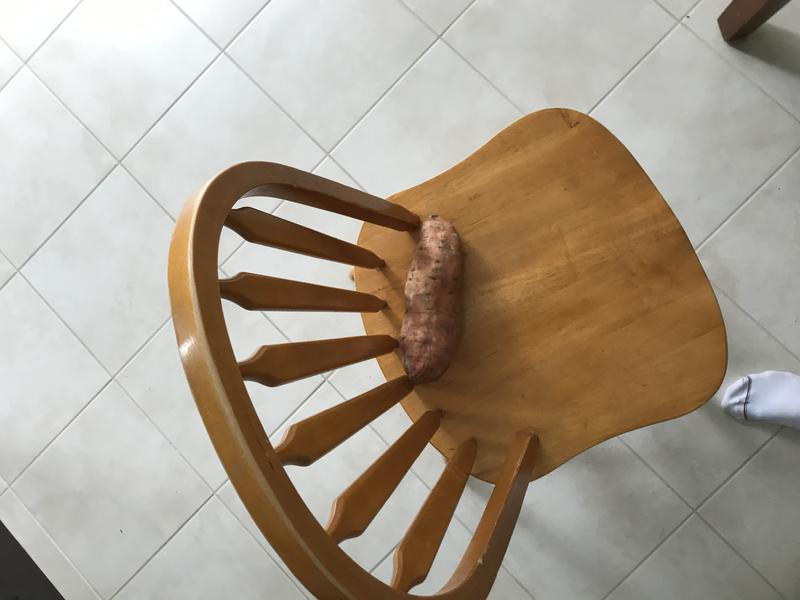sweet_potato: (394, 207, 470, 392)
